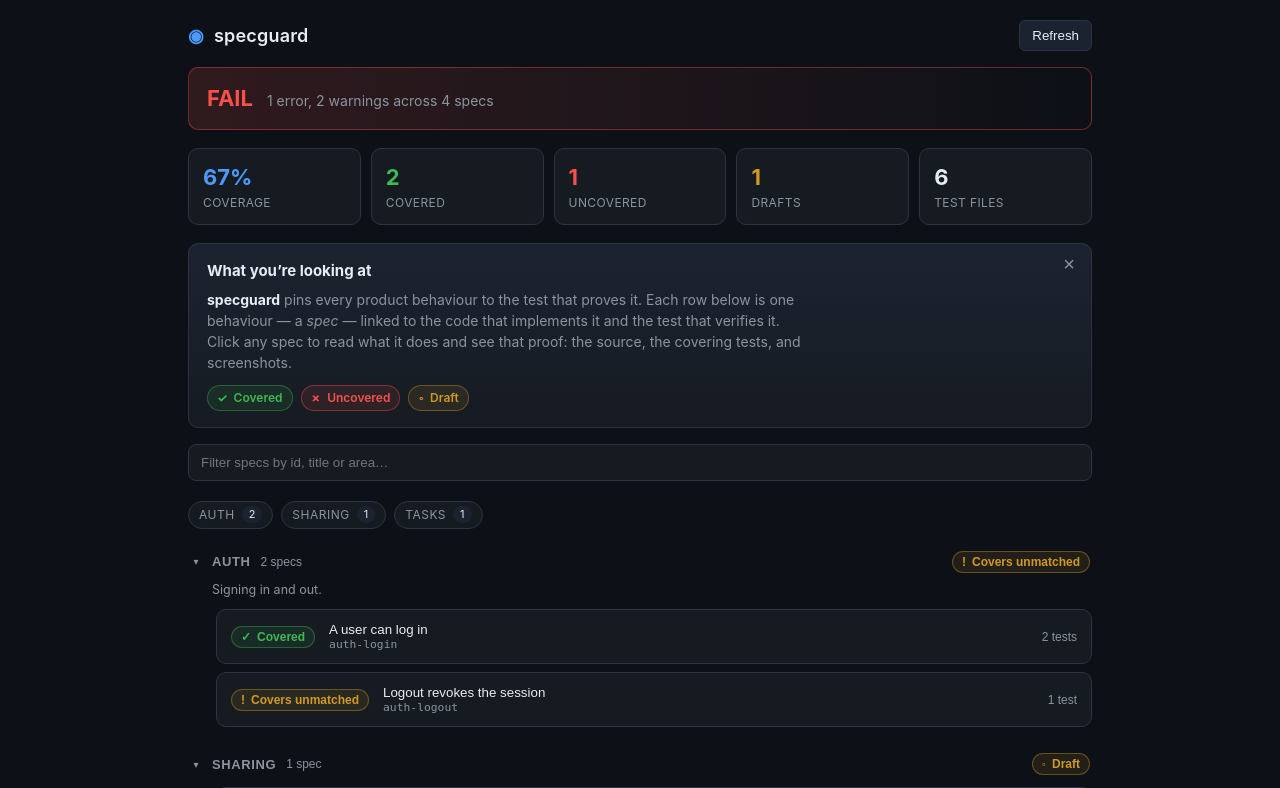
Scenario: Dashboard › shows an empty state when nothing matches
Type "zzzzz" into the field with test id "search" at (640, 462), box [188,444,1092,480]
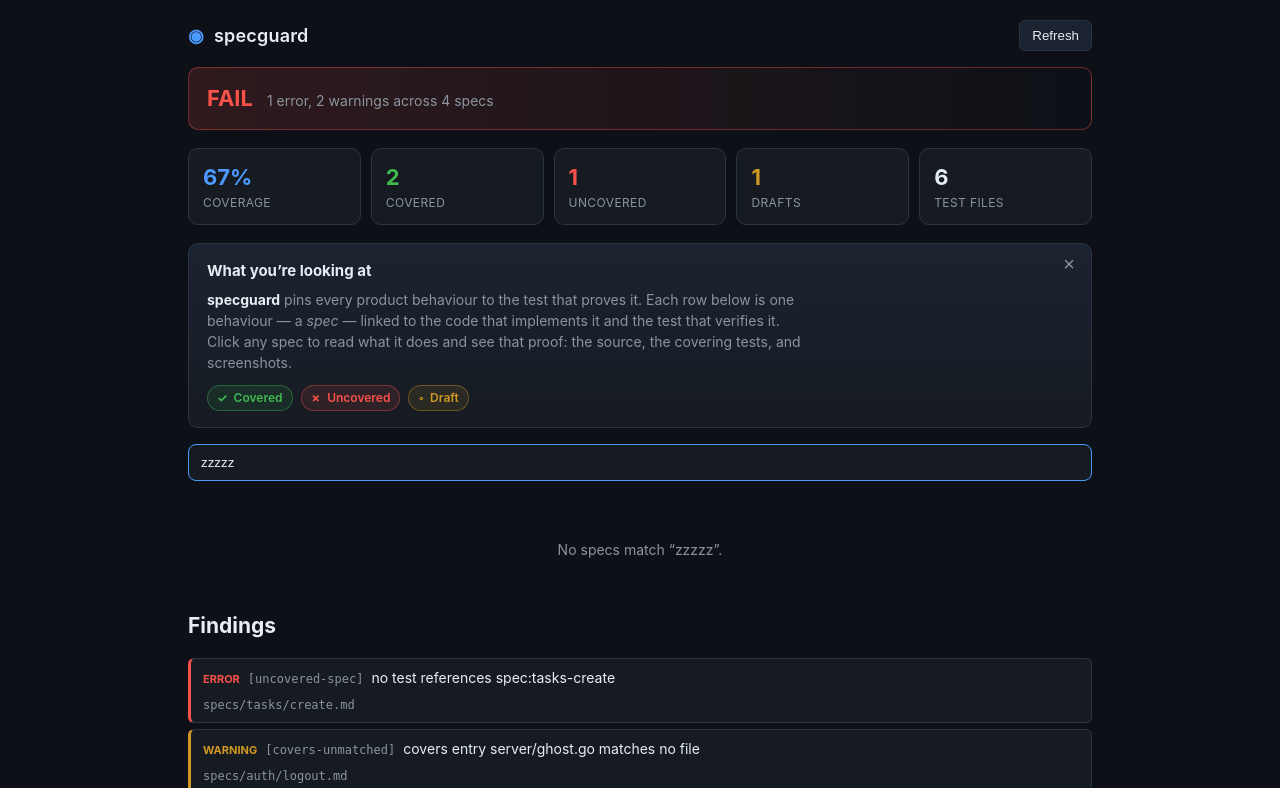
expect the text "No specs match “zzzzz”." is shown: met, box [558,540,722,558]
